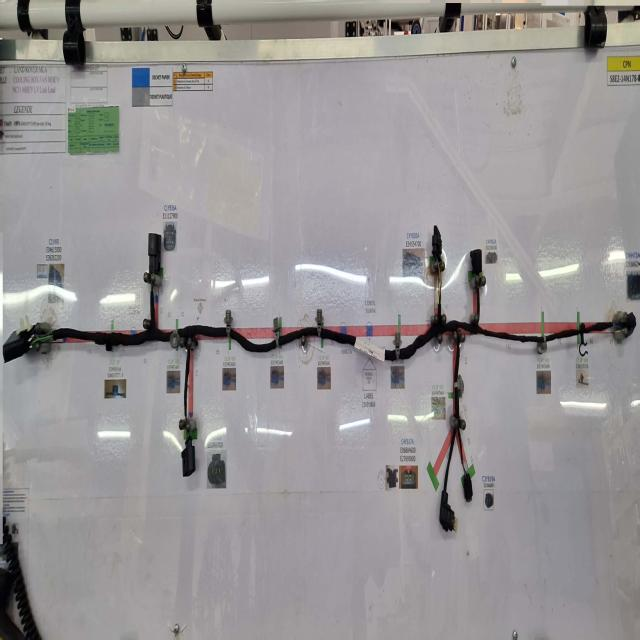Clip: (538, 323, 548, 357), (274, 316, 283, 350), (224, 309, 233, 340), (579, 318, 586, 355), (315, 305, 323, 335), (169, 329, 180, 350), (453, 376, 463, 396), (395, 331, 401, 363), (106, 333, 112, 354)
Connector: (440, 489, 458, 536), (5, 333, 30, 366), (181, 438, 196, 482), (146, 232, 159, 275), (432, 218, 442, 262), (463, 471, 473, 505), (471, 248, 483, 275), (626, 311, 636, 338)
Gape: (31, 332, 53, 351), (609, 312, 623, 332), (184, 415, 192, 440), (437, 256, 441, 304), (147, 272, 155, 293), (458, 458, 465, 476)
Info: (354, 338, 384, 365)
MHEV_N11_Cable: (56, 288, 618, 493)
